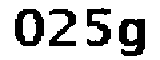0: (12, 5, 45, 46)
2: (51, 4, 78, 51)
5: (83, 4, 114, 53)
g: (117, 17, 147, 60)
